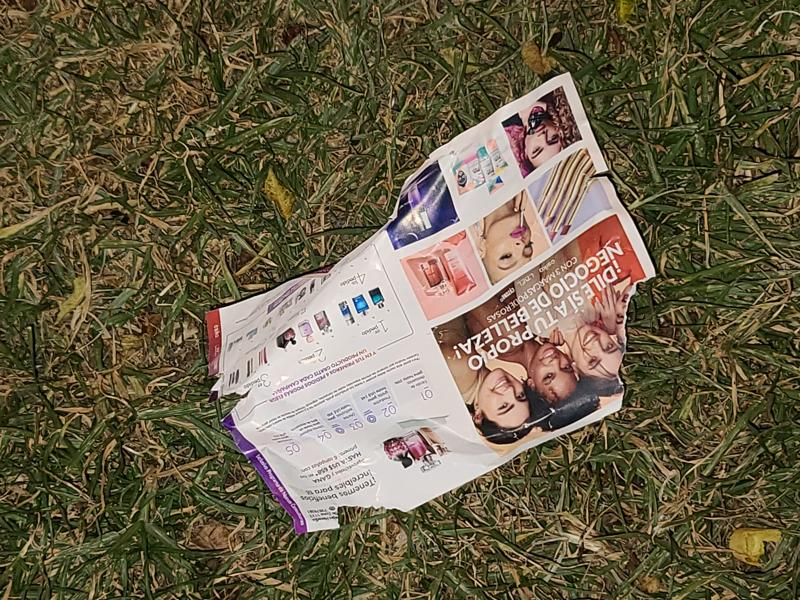papel: (204, 72, 659, 537)
